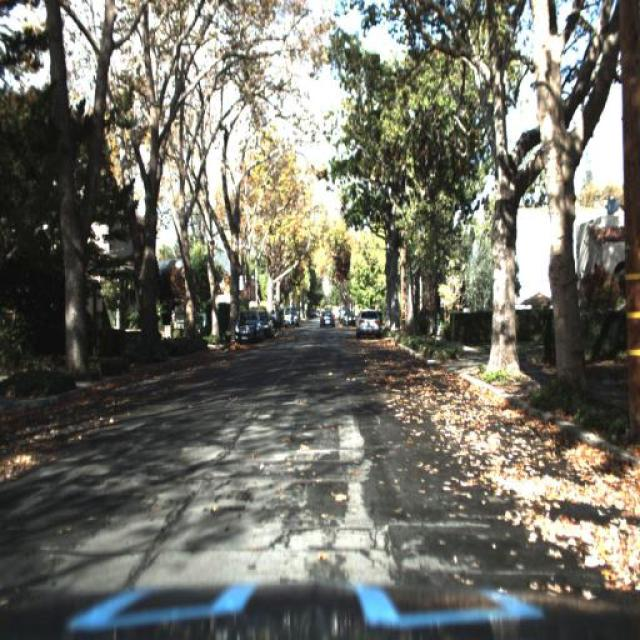car: (232, 304, 264, 348), (352, 302, 383, 339), (279, 304, 303, 330), (316, 306, 338, 326), (338, 307, 358, 329), (260, 306, 274, 336), (263, 310, 273, 336)
trafficLight: (268, 302, 280, 342)
